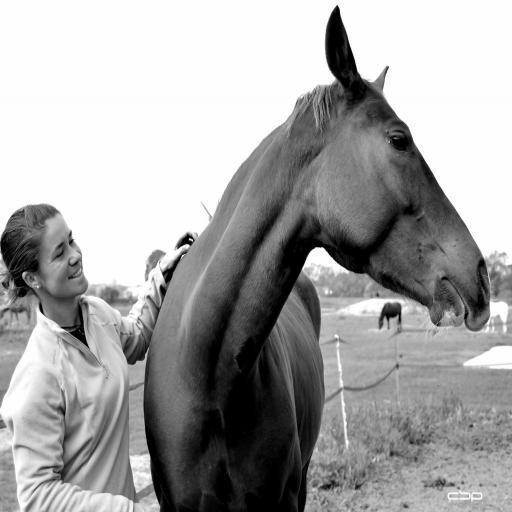horse: (143, 5, 492, 512), (378, 302, 402, 336), (486, 300, 509, 334)
